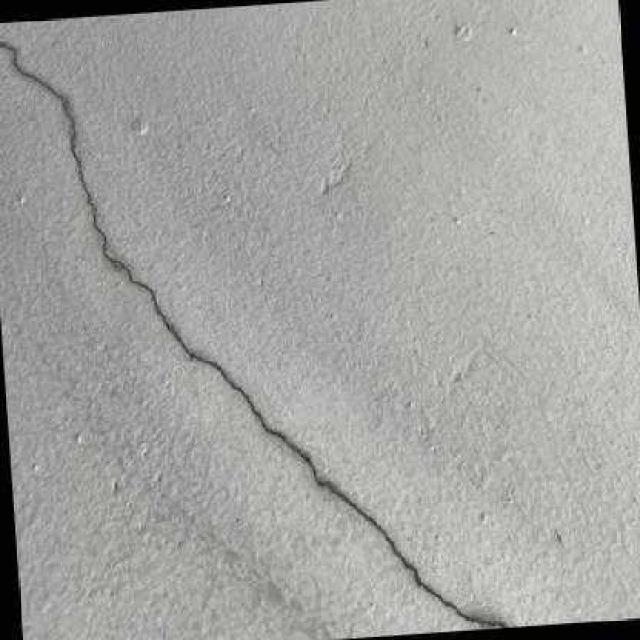D00: (0, 40, 508, 628)
